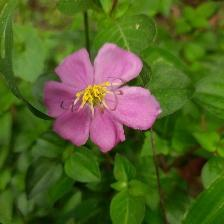malabar melastome: (43, 41, 166, 159)
